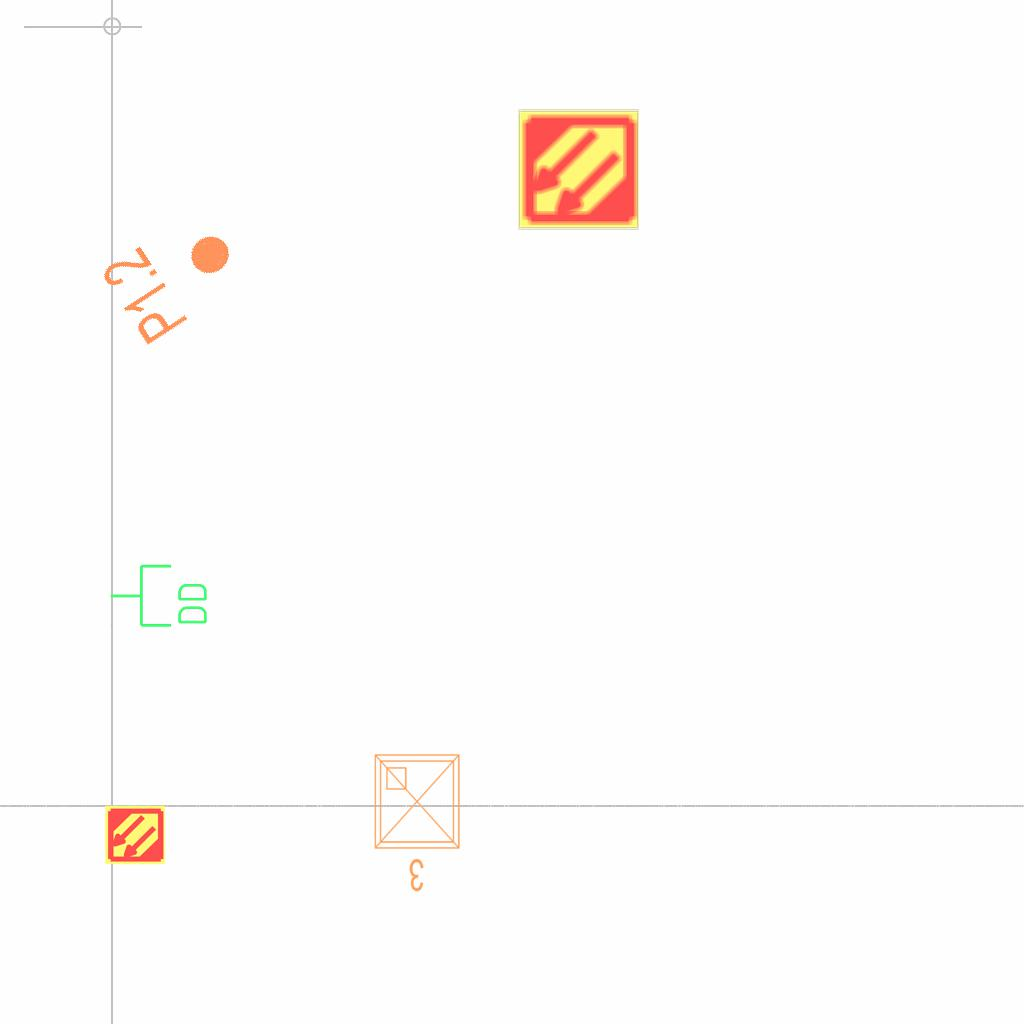ASR_Ansaugrauchmelder: (516, 107, 641, 232), (104, 804, 166, 866)
Datenanschluss_zweifach: (108, 562, 211, 631)
Downlight_LED_Einbauleuchten_Flur: (95, 202, 254, 350)
Einbaudownlights_LED_Konferenzraeume: (367, 747, 471, 897)
